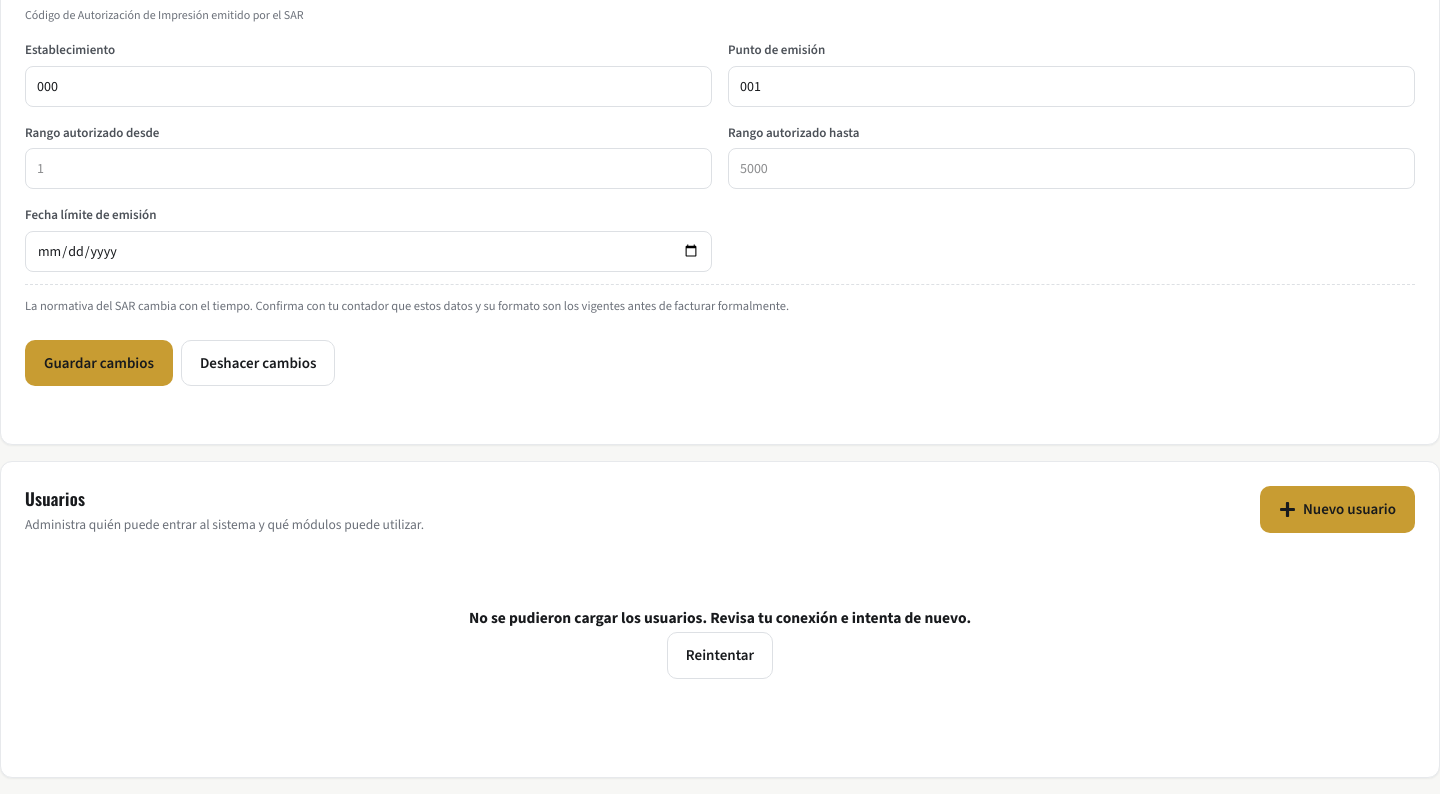
Test case: Settings: usuarios › si la lista no se pudo cargar, lo dice y deja reintentar, en vez de decir que no hay usuarios
(page scrolled)
Expected: the text "No se pudieron cargar los usuarios" is shown, [469,607,971,628]
Click the button "Reintentar": (720,655) [667,632,773,678]
(page scrolled)
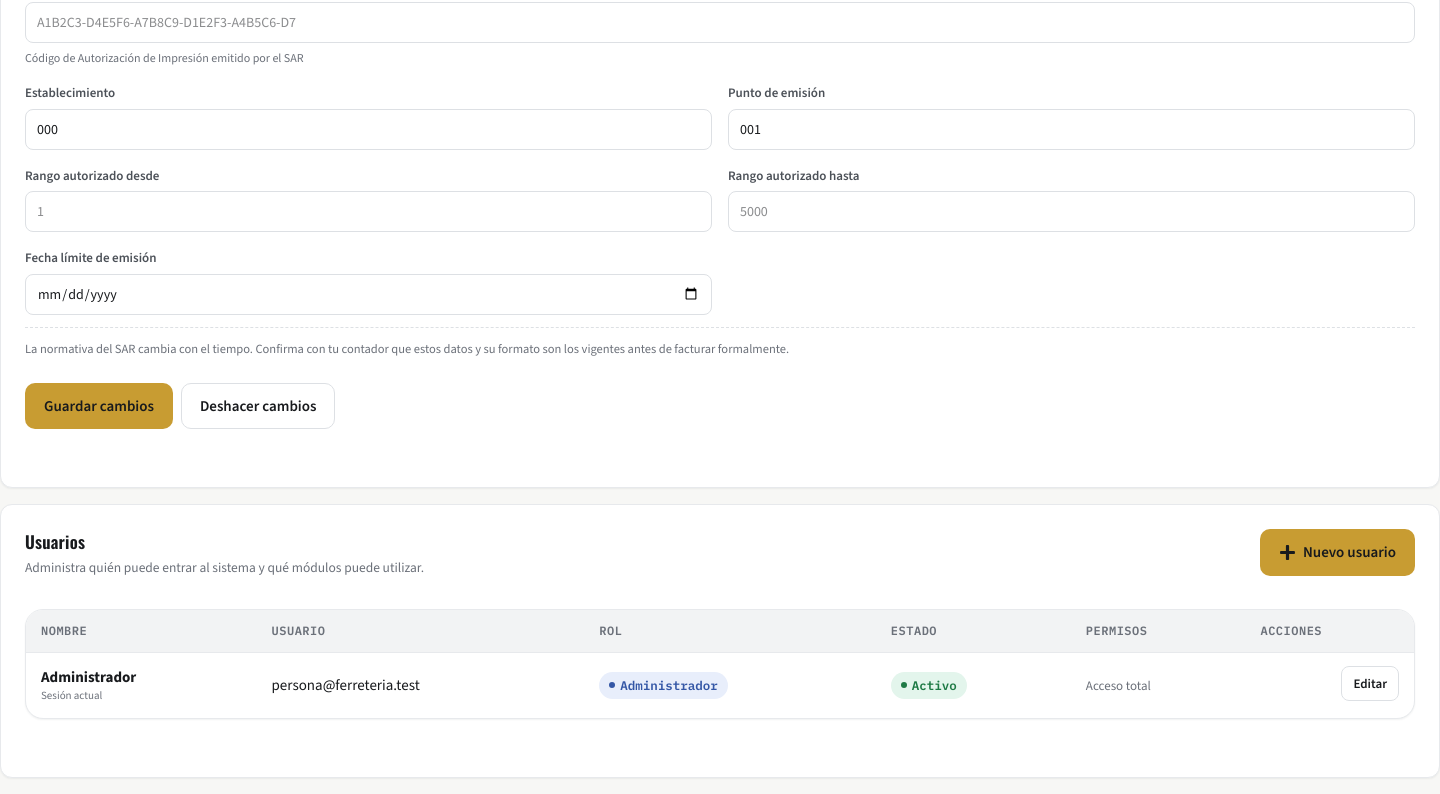
Expected: the text "Administrador" is shown, [41,667,136,687]
Expected: the text "No se pudieron cargar los usuarios" is gone
